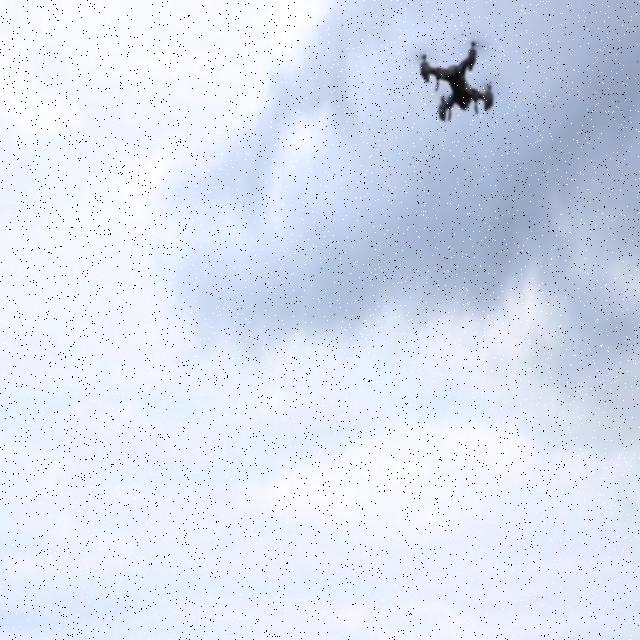UAV: (419, 36, 495, 125)
